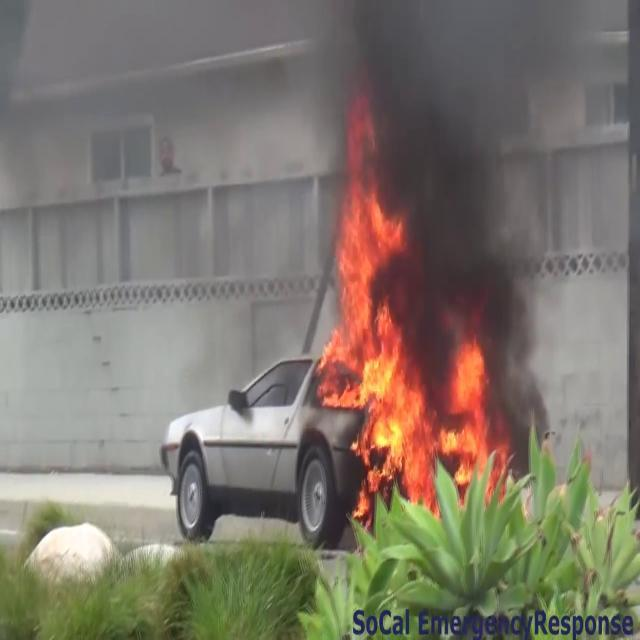Fire: (314, 143, 502, 504)
Smoke: (312, 0, 604, 378)
